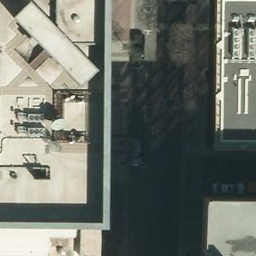car: (127, 134, 147, 169), (129, 33, 148, 68), (214, 179, 246, 198)
